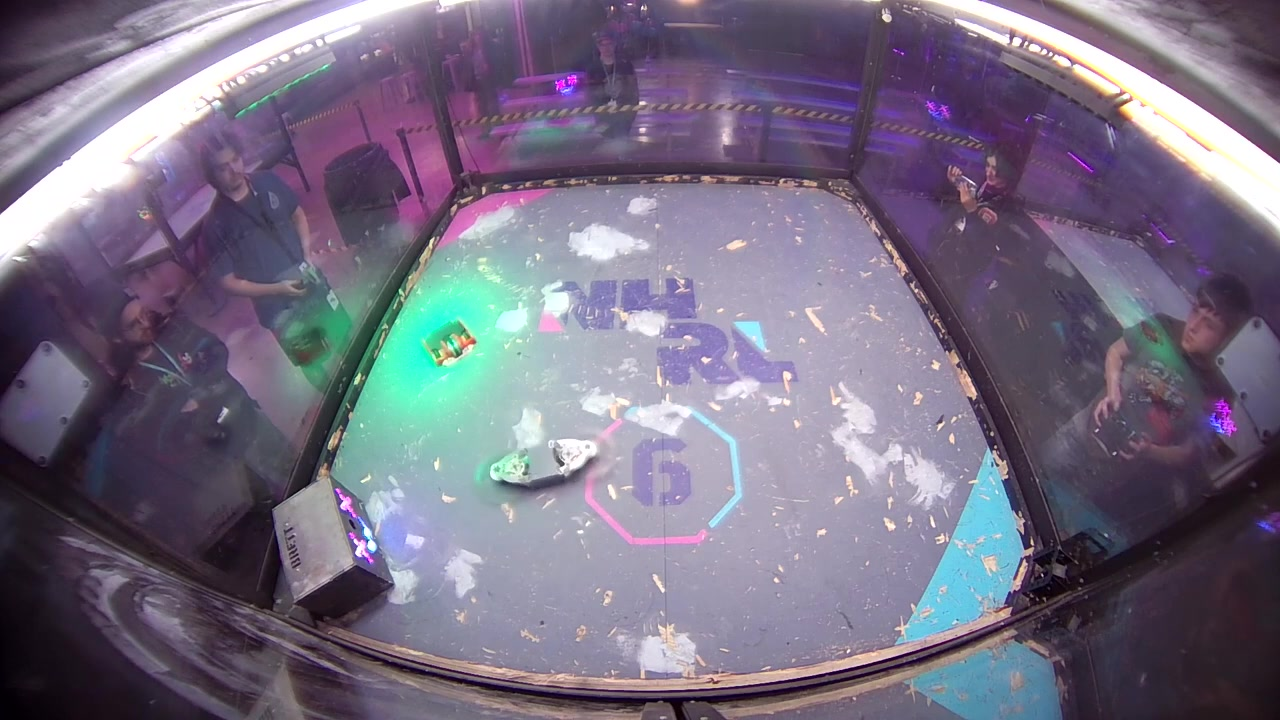combatbot: (490, 439, 601, 493), (425, 318, 479, 367)
housebot: (271, 476, 395, 620)
